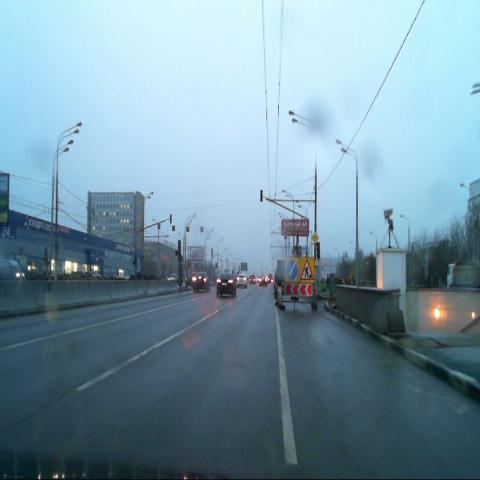1_25: (299, 257, 315, 283)
4_2_2: (285, 256, 299, 282)
